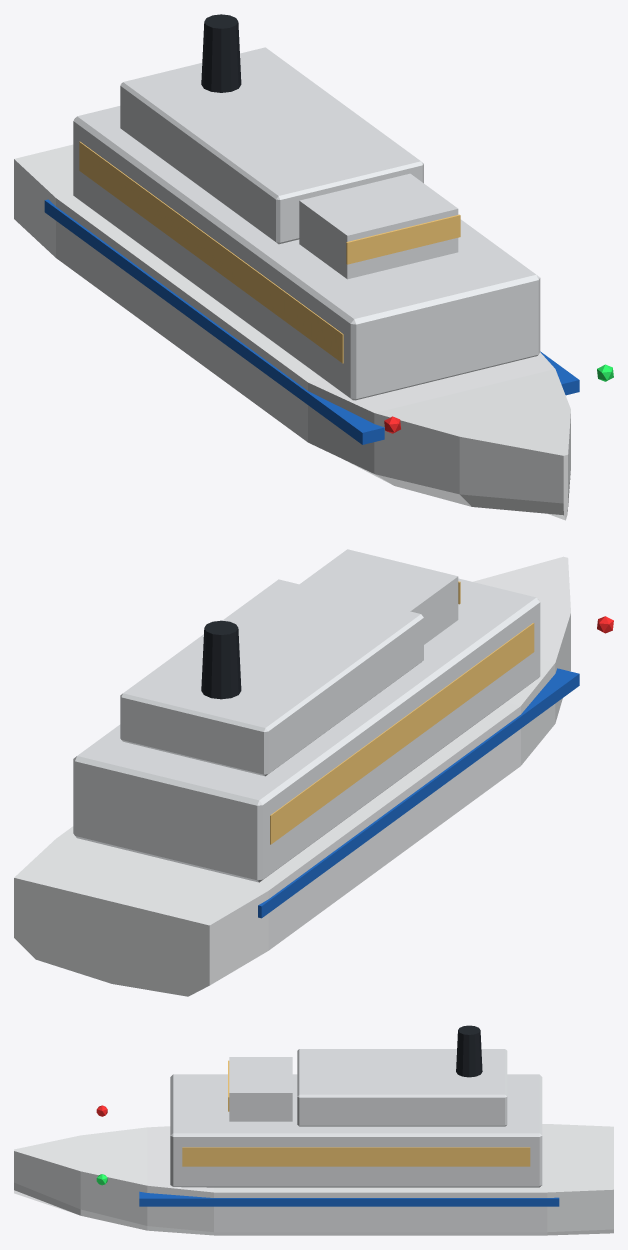
File: ship-ferry.glb
3 renders of one model, top to bottom at view 1: azimuth 30°, elevation 25°; view 2: azimuth 150°, elevation 25°; view 3: azimuth 270°, elevation 25°, orthographic. The views are drawn at different scales.
Parts seen in each view (by area): view 1: Hull, Cabin, Upper, Wheelhouse, CabinWin, Band, Funnel, WhWin; view 2: Hull, Cabin, Upper, CabinWin, Wheelhouse, Band, Funnel; view 3: Hull, Cabin, Upper, CabinWin.001, Wheelhouse, Band, Funnel.
Boxes of the visible parts, bbox=[...] form: Hull: bbox=[14, 144, 570, 520]; Cabin: bbox=[73, 106, 540, 400]; Upper: bbox=[120, 47, 423, 244]; Wheelhouse: bbox=[299, 173, 458, 279]; CabinWin: bbox=[79, 141, 343, 363]; Band: bbox=[44, 199, 579, 444]; Funnel: bbox=[201, 14, 241, 92]; WhWin: bbox=[346, 214, 460, 264]; Hull: bbox=[14, 556, 570, 996]; Cabin: bbox=[73, 578, 540, 882]; Upper: bbox=[120, 579, 423, 776]; CabinWin: bbox=[270, 623, 534, 844]; Wheelhouse: bbox=[299, 549, 458, 644]; Band: bbox=[258, 668, 579, 918]; Funnel: bbox=[201, 620, 241, 699]; Hull: bbox=[14, 1124, 613, 1235]; Cabin: bbox=[170, 1074, 542, 1187]; Upper: bbox=[297, 1049, 507, 1126]; CabinWin.001: bbox=[182, 1147, 530, 1166]; Wheelhouse: bbox=[229, 1057, 292, 1121]; Band: bbox=[139, 1191, 559, 1206]; Funnel: bbox=[456, 1025, 482, 1077].
Bounding box in the file's own units: 4.92 × 5.7 × 17.
